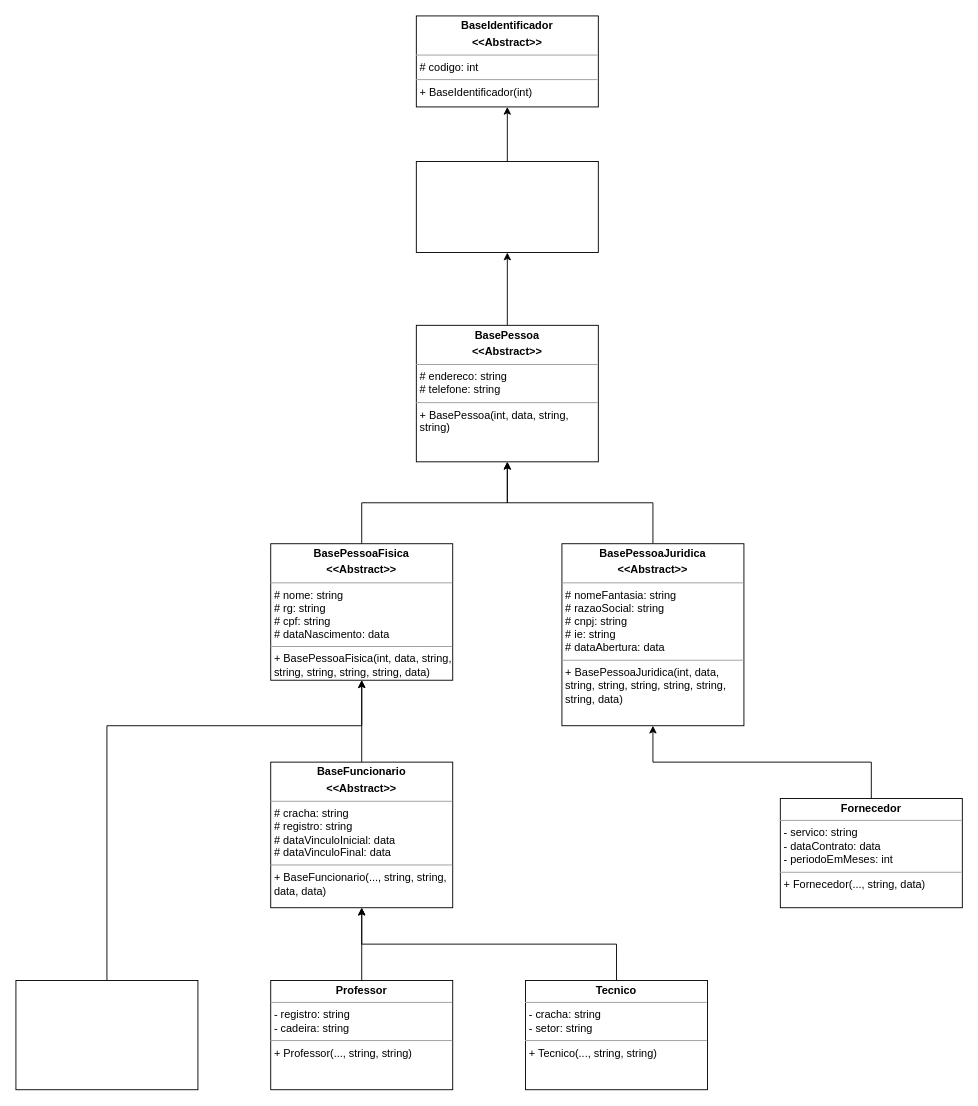
Image size: 978x1106. Some labels were removed from this diagram. Here are the shapes that lost their labels. From the top down, the centre of each, then its label:
At (506,207): "BaseDadosComuns <<Abstract>> # dataInsercao: data + BaseDadosComuns(int, data)".
At (106,1035): "Aluno - matricula: string - dataMatricula: data + Aluno(..., string, data)".
